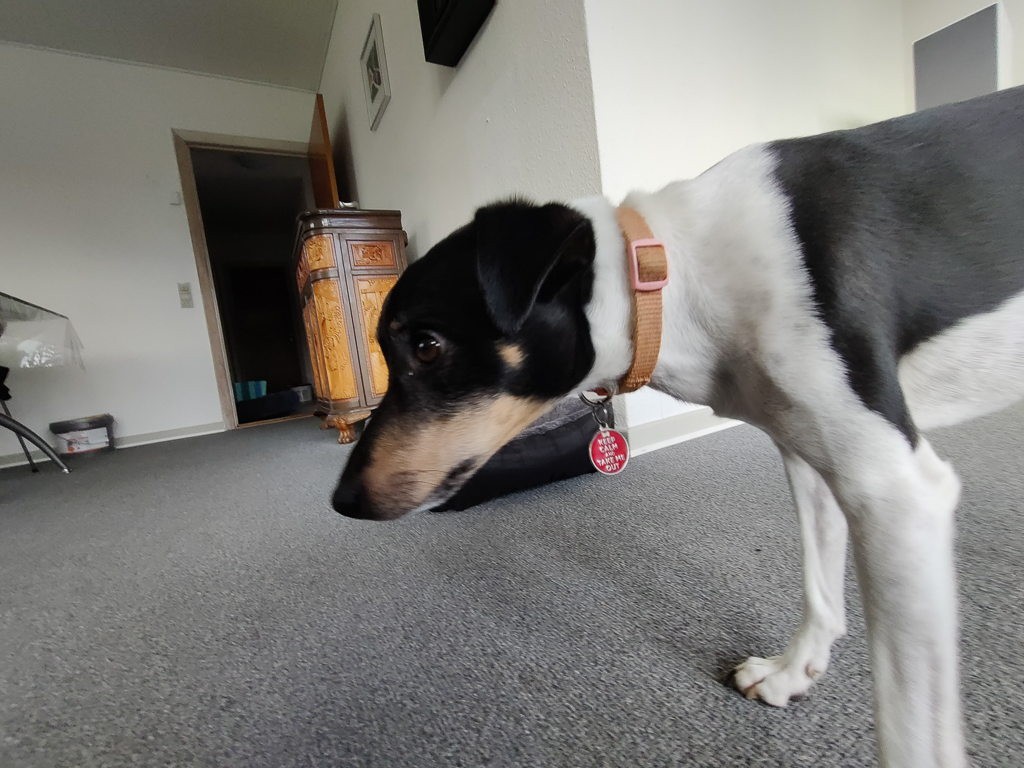Dog: (324, 64, 1024, 768)
